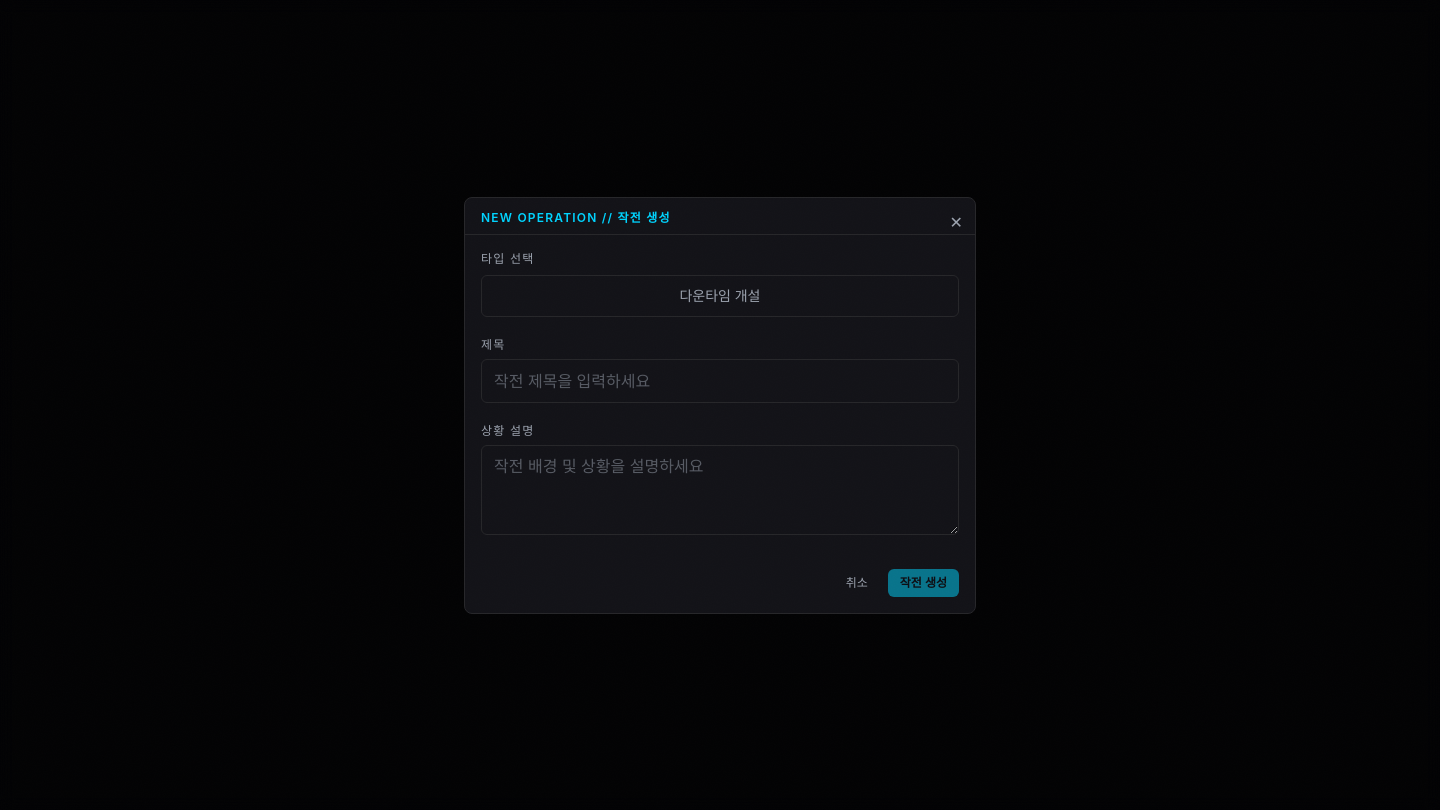
Test case: CreateOperationModal › '다운타임 개설' 선택 시 참가자 초대 필드를 표시한다
Click the button "다운타임 개설". click: (720, 296)
box: [481,274,959,316]
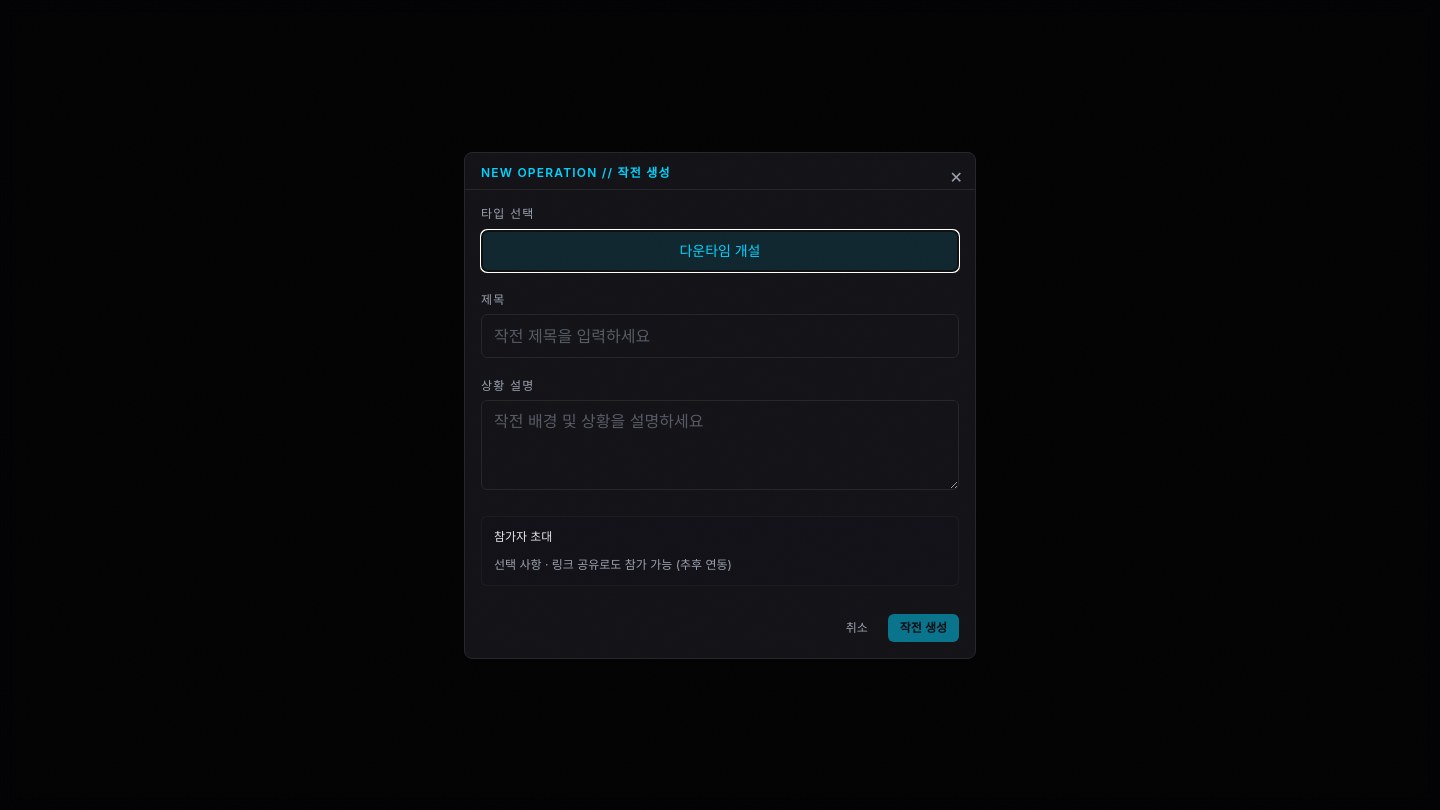
Expected: the text "참가자 초대" is shown, [494,528,552,544]
